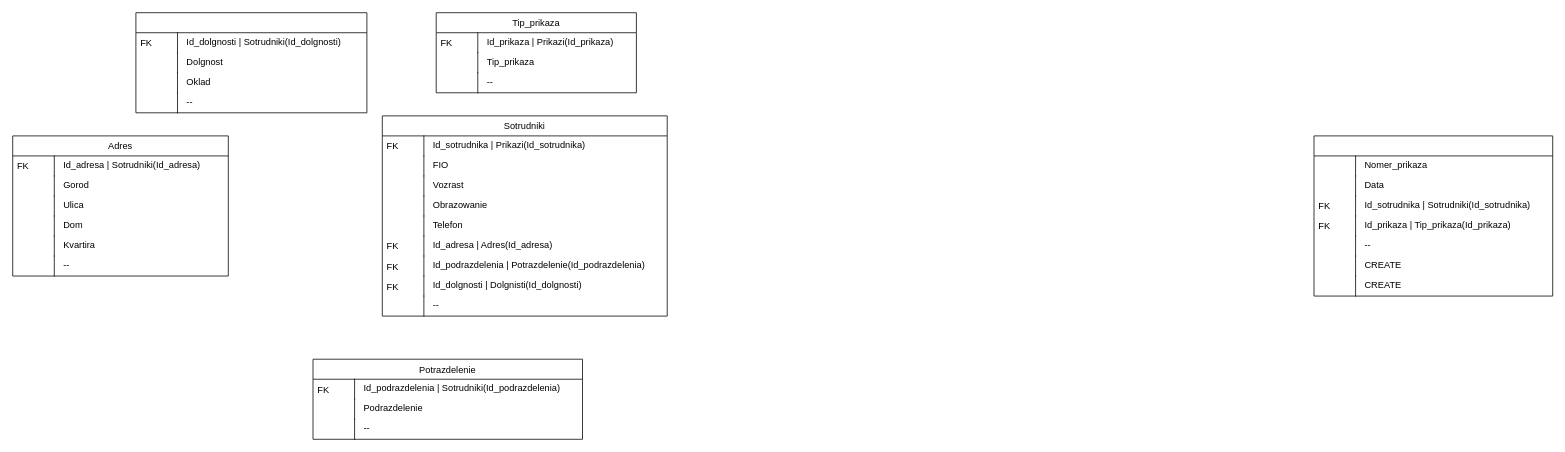
Some shapes in this 1565 by 452 pixel diagram are drawn without their labels. Each missing label, with the box of its shape:
Dolgnisti: (135, 12, 367, 113)
Prikazi: (1313, 135, 1553, 296)
